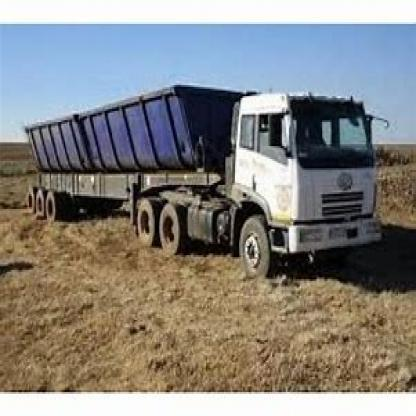dump_truck: (25, 76, 403, 292)
